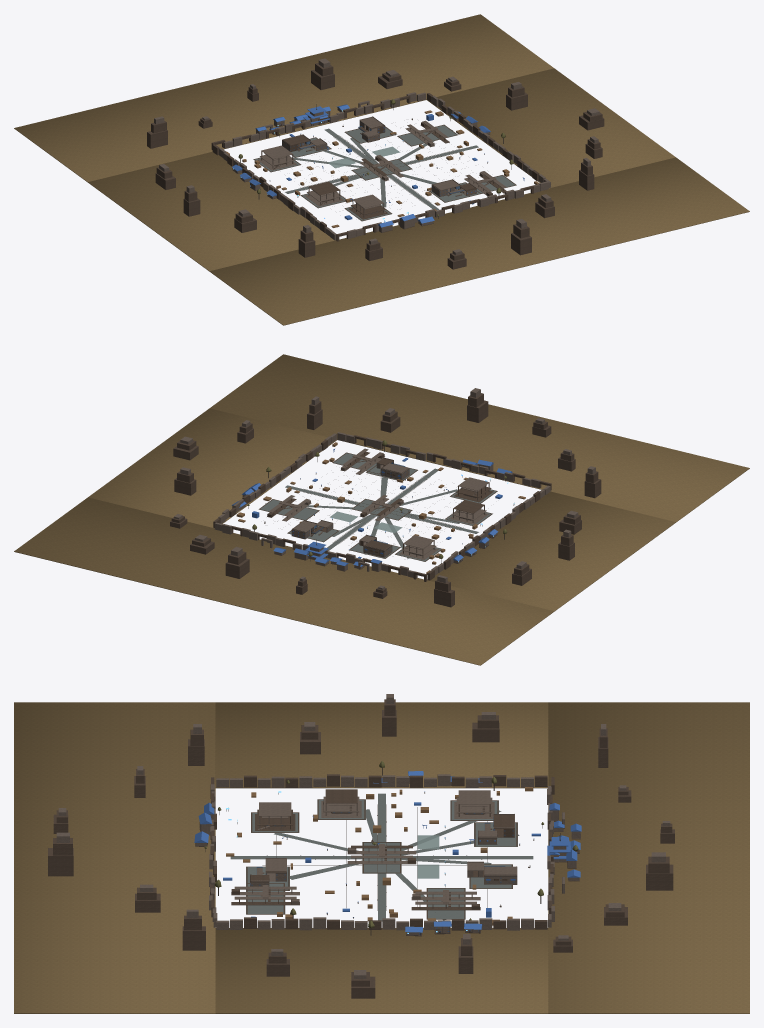
The model's file is onsengai-lod1.glb.
The picture shows the model from 3 angles, top to bottom: view 1: azimuth 30°, elevation 25°; view 2: azimuth 150°, elevation 25°; view 3: azimuth 270°, elevation 25°; orthographic projection. The views are drawn at different scales.
Parts seen in each view (by area): view 1: HB_onsengai_LOD1_terrain, HB_onsengai_LOD1_wall_alt, HB_onsengai_LOD1_wall, HB_onsengai_LOD1_road, HB_onsengai_LOD1_accent, HB_onsengai_LOD1_obstacle; view 2: HB_onsengai_LOD1_terrain, HB_onsengai_LOD1_wall_alt, HB_onsengai_LOD1_wall, HB_onsengai_LOD1_road, HB_onsengai_LOD1_accent, HB_onsengai_LOD1_obstacle; view 3: HB_onsengai_LOD1_terrain, HB_onsengai_LOD1_wall_alt, HB_onsengai_LOD1_wall, HB_onsengai_LOD1_road, HB_onsengai_LOD1_accent, HB_onsengai_LOD1_obstacle, HB_onsengai_LOD1_water, HB_onsengai_LOD1_trim.
Part boxes in pixels (box(x1,y1,x2,y2)): HB_onsengai_LOD1_terrain: box(14, 14, 749, 325); HB_onsengai_LOD1_wall_alt: box(147, 63, 604, 269); HB_onsengai_LOD1_wall: box(154, 58, 599, 255); HB_onsengai_LOD1_road: box(253, 125, 516, 220); HB_onsengai_LOD1_accent: box(232, 104, 524, 227); HB_onsengai_LOD1_obstacle: box(226, 110, 538, 227); HB_onsengai_LOD1_terrain: box(14, 354, 749, 665); HB_onsengai_LOD1_wall_alt: box(170, 393, 601, 607); HB_onsengai_LOD1_wall: box(174, 388, 595, 589); HB_onsengai_LOD1_road: box(258, 453, 497, 561); HB_onsengai_LOD1_accent: box(231, 449, 512, 566); HB_onsengai_LOD1_obstacle: box(236, 442, 525, 574); HB_onsengai_LOD1_terrain: box(14, 702, 749, 1013); HB_onsengai_LOD1_wall_alt: box(48, 699, 674, 998); HB_onsengai_LOD1_wall: box(56, 694, 670, 978); HB_onsengai_LOD1_road: box(230, 793, 533, 921); HB_onsengai_LOD1_accent: box(194, 771, 581, 932); HB_onsengai_LOD1_obstacle: box(226, 787, 533, 925); HB_onsengai_LOD1_water: box(417, 835, 439, 878); HB_onsengai_LOD1_trim: box(205, 768, 568, 935).
Size of the model in its own units: 620 by 36.88 by 620.
Materials: 11 (8 with a texture image).
